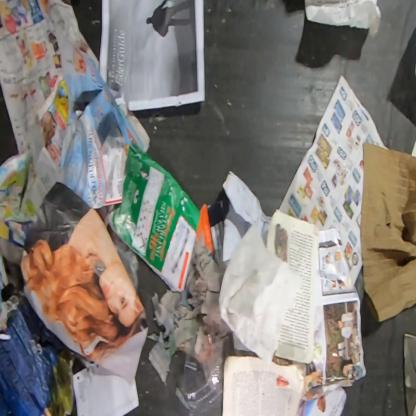cardboard: (107, 143, 201, 293), (0, 294, 97, 415), (360, 141, 415, 323), (192, 198, 230, 266)
metal: (402, 331, 415, 415)
rigid_plastic: (174, 334, 226, 414)
